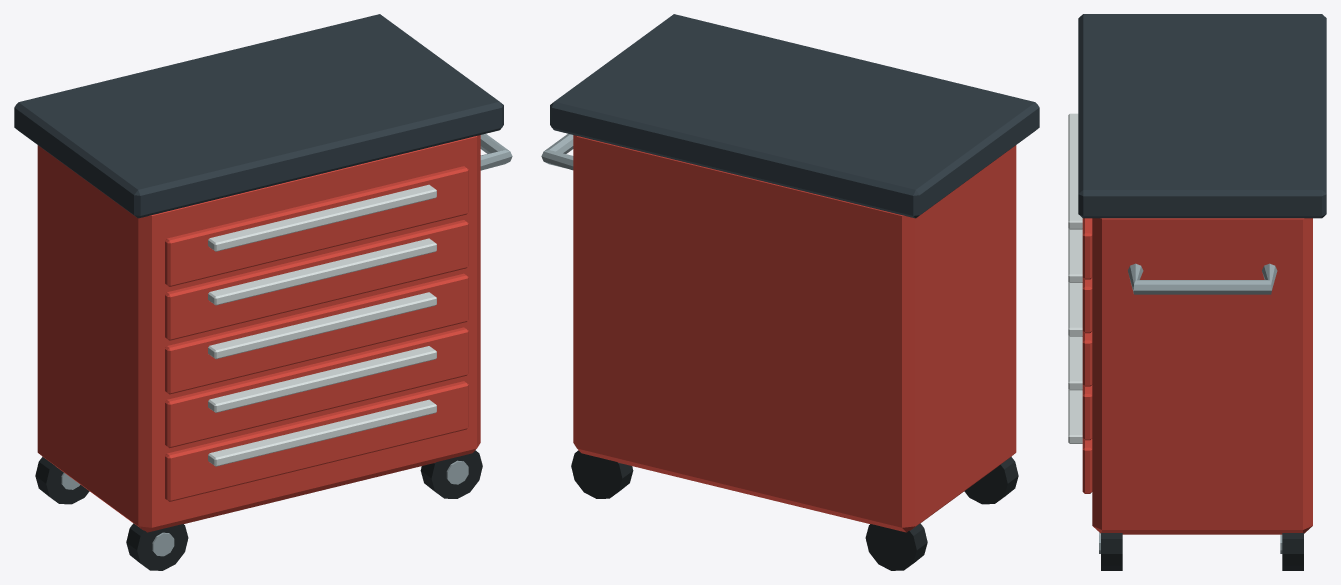
The model's file is Tool_Chest_Rolling.glb.
3 renders of one model, left to right at view 1: azimuth 30°, elevation 25°; view 2: azimuth 150°, elevation 25°; view 3: azimuth 270°, elevation 25°, orthographic.
Visible parts, largest first — view 1: Tool_Chest_Rolling; view 2: Tool_Chest_Rolling; view 3: Tool_Chest_Rolling.
Part boxes in pixels (<box>): Tool_Chest_Rolling: <box>14,14,512,570</box>; Tool_Chest_Rolling: <box>541,14,1039,570</box>; Tool_Chest_Rolling: <box>1068,14,1326,570</box>.
Size of the model in its own units: 1.18 by 1.11 by 0.656.
